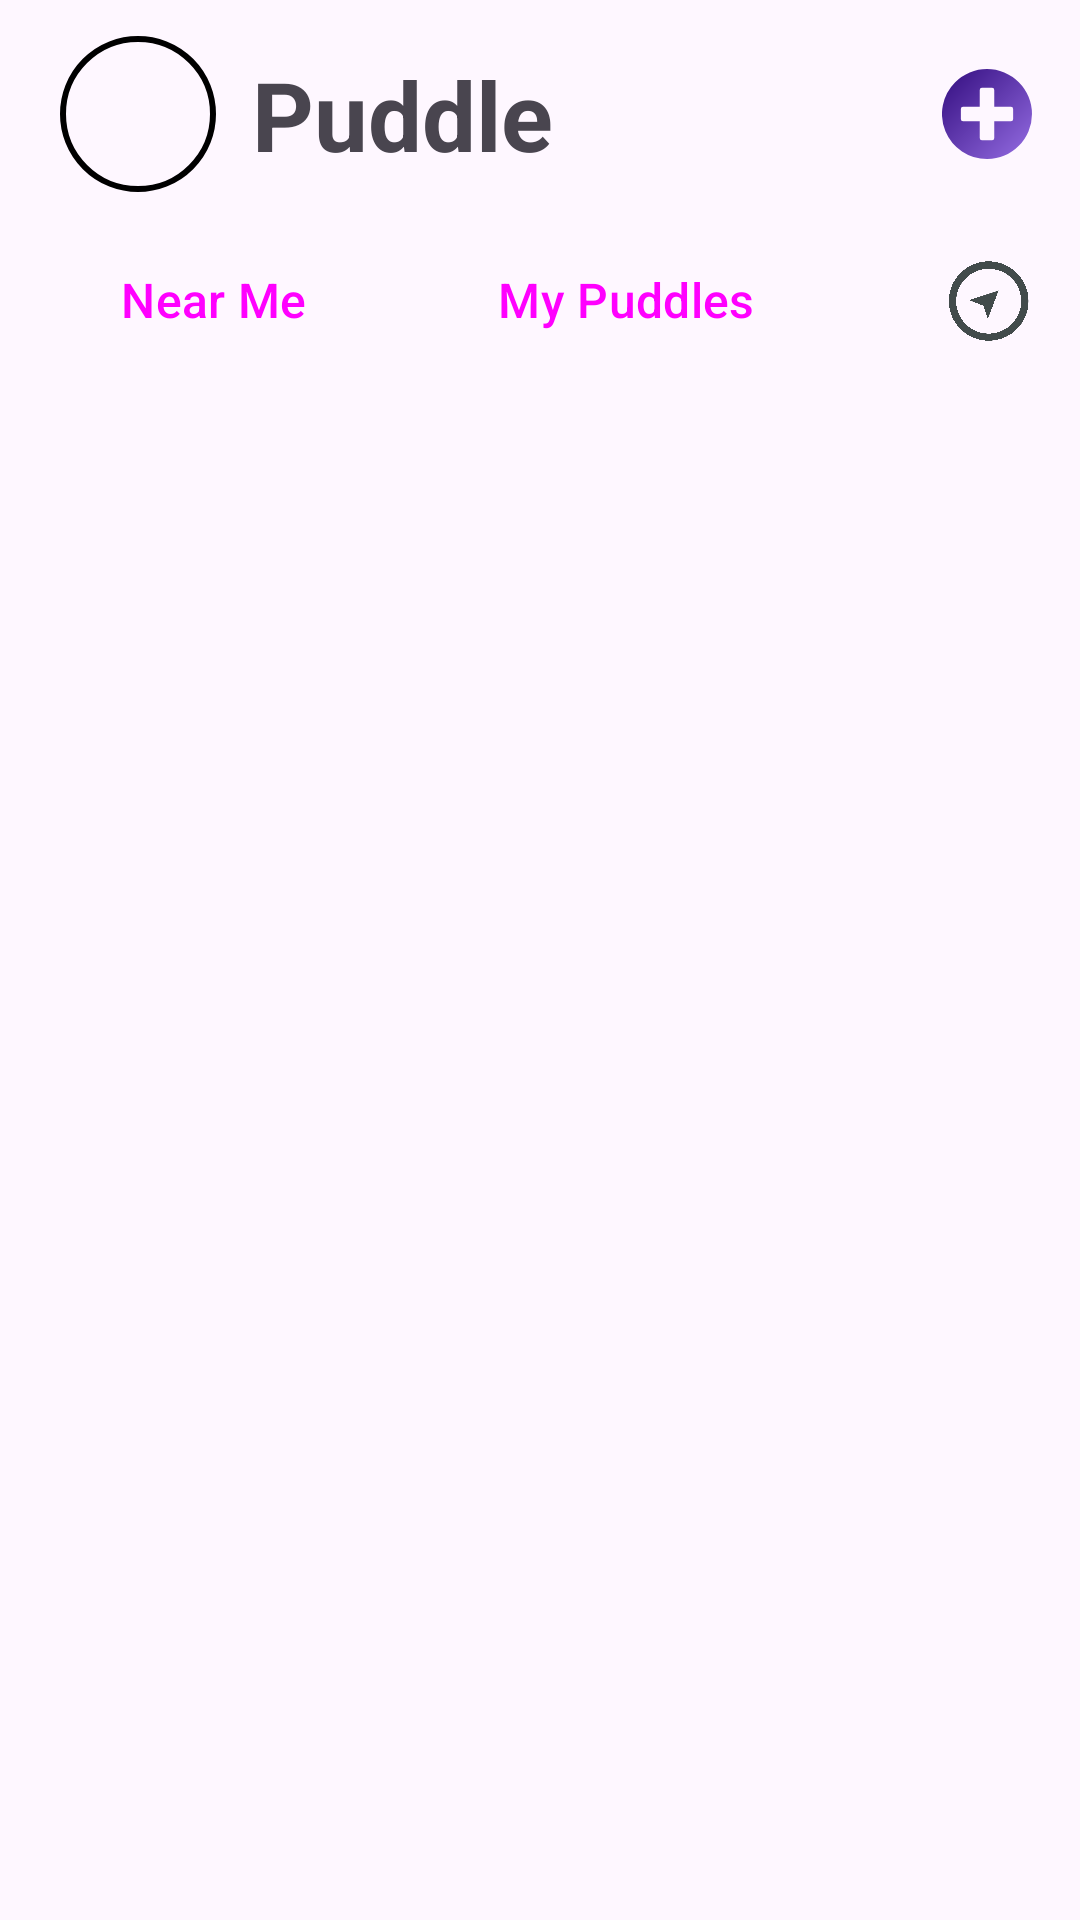

Named icons in this screenshot (1080 x 1920) and their centers, [x,y]:
create: [987,114]
navigation: [989,301]
